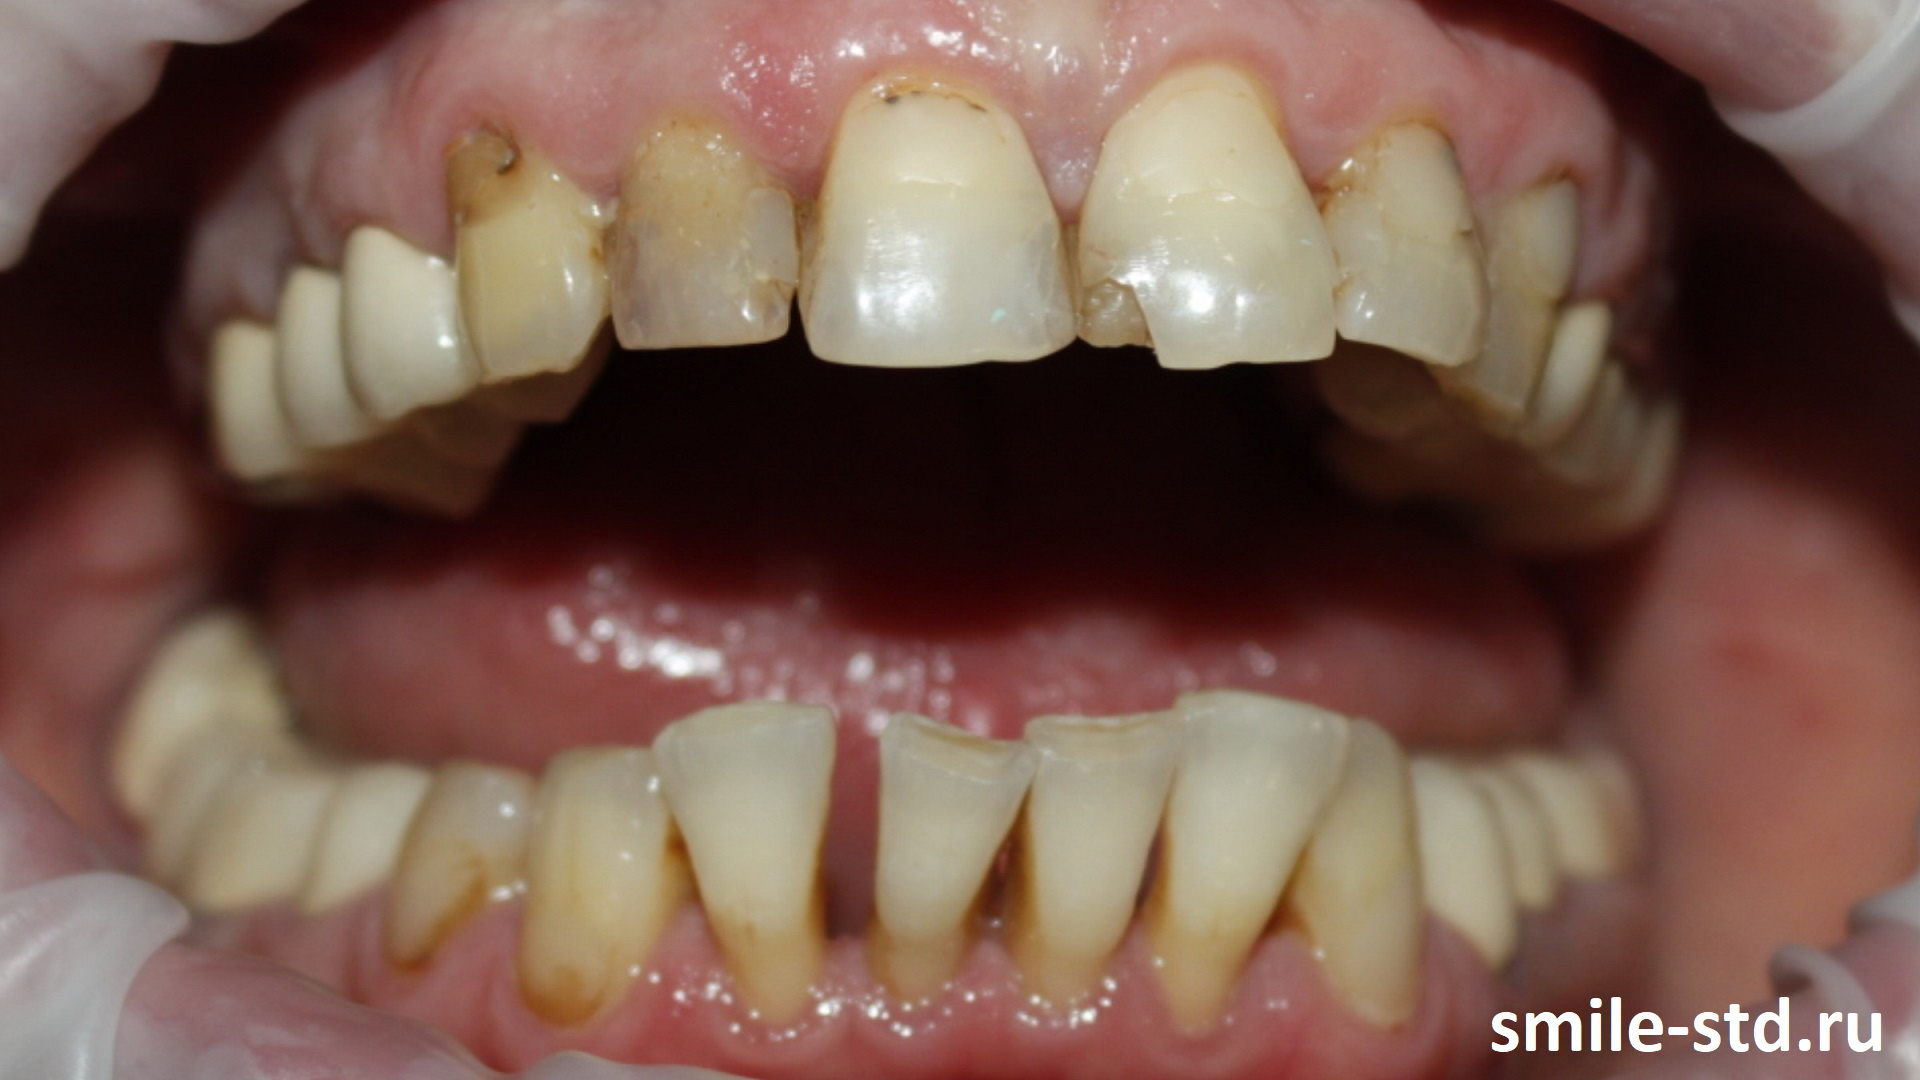LL1BC_healthy: (1403, 754, 1528, 959)
LLCI_healthy: (1019, 711, 1168, 1013)
LLC_healthy: (1303, 727, 1433, 1023)
LLLI_healthy: (1156, 696, 1340, 1021)
LR1BC_healthy: (392, 761, 542, 977)
LR2BC_healthy: (309, 761, 411, 894)
LRCI_healthy: (861, 698, 1013, 996)
LRC_healthy: (538, 748, 671, 1023)
LRLI_healthy: (659, 694, 847, 1011)
ULCI_decay: (1067, 63, 1340, 373)
ULC_decay: (1472, 169, 1580, 417)
ULLI_decay: (1335, 123, 1491, 378)
UR1BC_healthy: (349, 233, 473, 429)
UR1M_healthy: (208, 319, 287, 477)
UR2BC_healthy: (276, 276, 371, 459)
URCI_decay: (811, 79, 1071, 388)
URC_decay: (444, 135, 609, 377)
URLI_decay: (589, 111, 800, 367)
